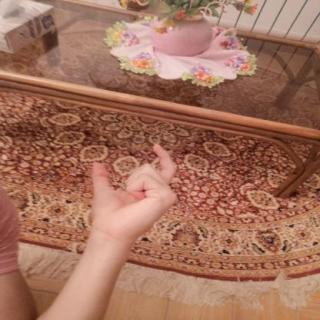NOON: (82, 138, 188, 245)
